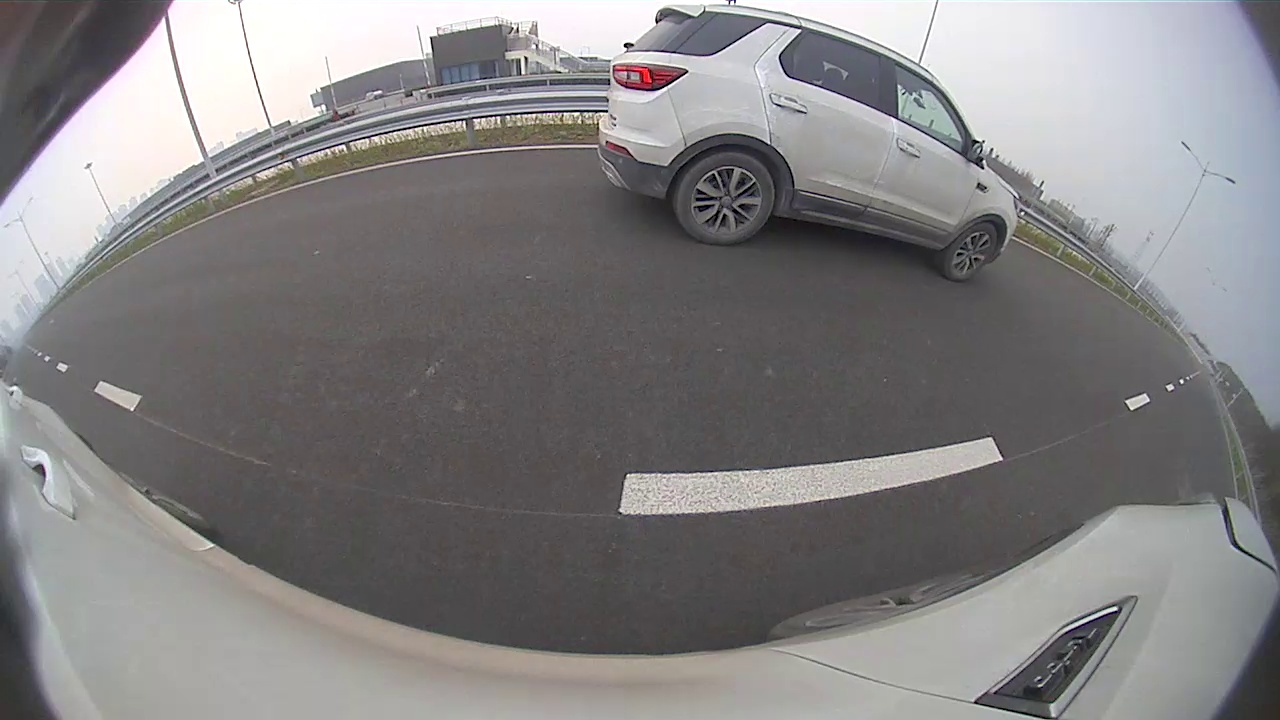car: (597, 5, 1020, 282)
front: (942, 221, 999, 284)
rear: (678, 154, 776, 244)
